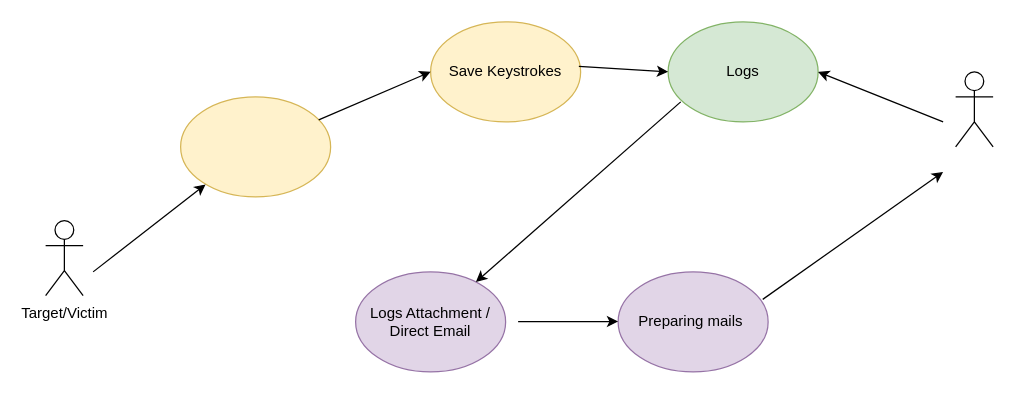
Some shapes in this 1018 by 394 pixel diagram are drawn without their labels. The shapes that lost their labels are listed below. From the top down, each one's centre as x and y in pixels, then its label:
pixel 973 109: Admin
pixel 255 146: Input Keystrokes
